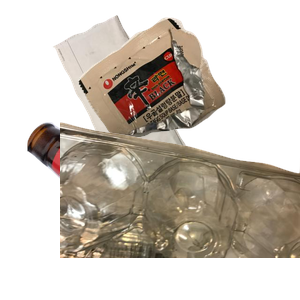glass: (25, 120, 265, 300)
paper: (51, 13, 230, 186)
plastic: (60, 120, 300, 300)
trash: (76, 15, 300, 145)
